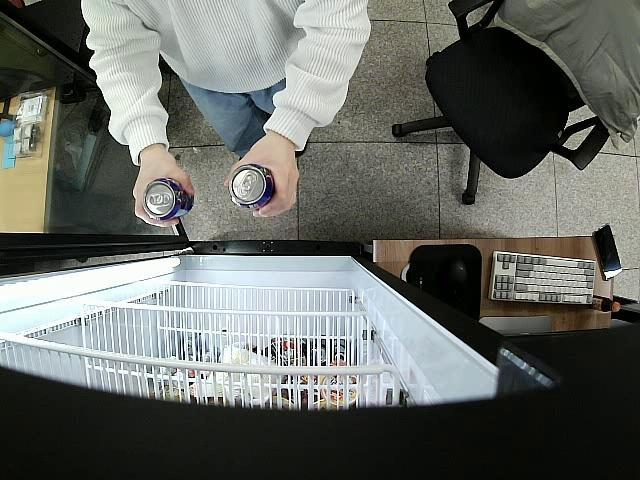14_welchsGrape: (227, 163, 276, 214), (144, 176, 194, 221)
